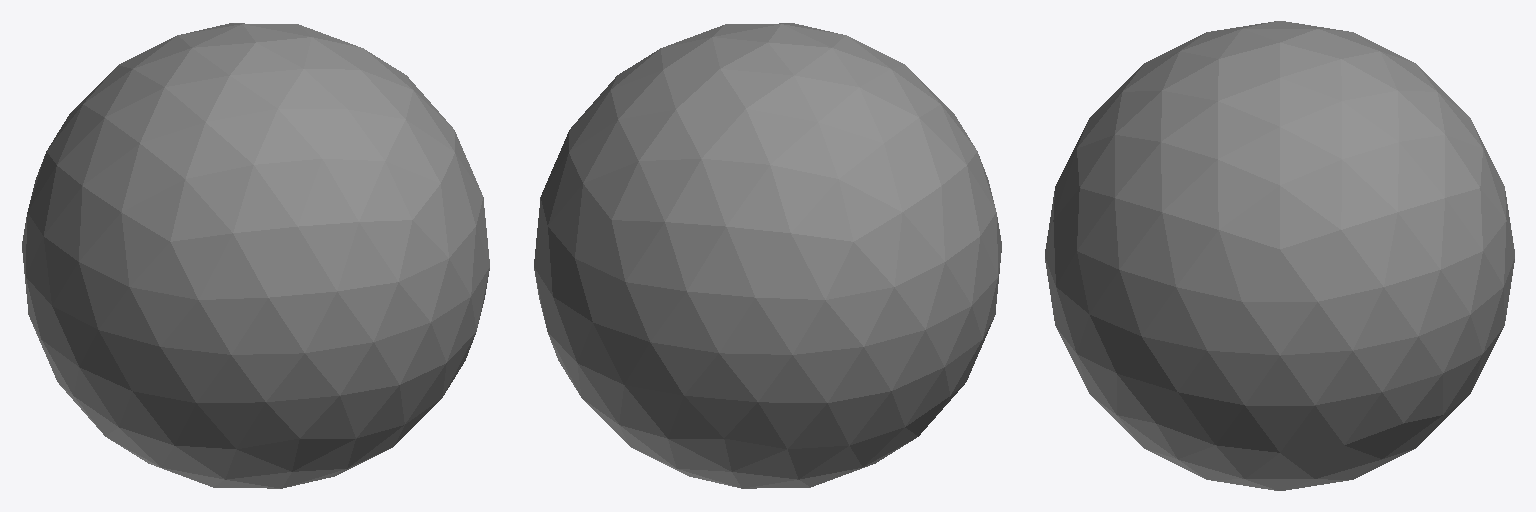
File: 3dtest.obj
3 views of the same model, side by side, from view 1: azimuth 30°, elevation 25°; view 2: azimuth 150°, elevation 25°; view 3: azimuth 270°, elevation 25° (orthographic).
Visible parts, largest first — view 1: GeoSphere001; view 2: GeoSphere001; view 3: GeoSphere001.
Boxes of the visible parts, <box> form: GeoSphere001: <box>22,23,489,488</box>; GeoSphere001: <box>534,23,1001,488</box>; GeoSphere001: <box>1045,21,1514,490</box>.
Size of the model in its own units: 77.03 by 77.03 by 77.03.